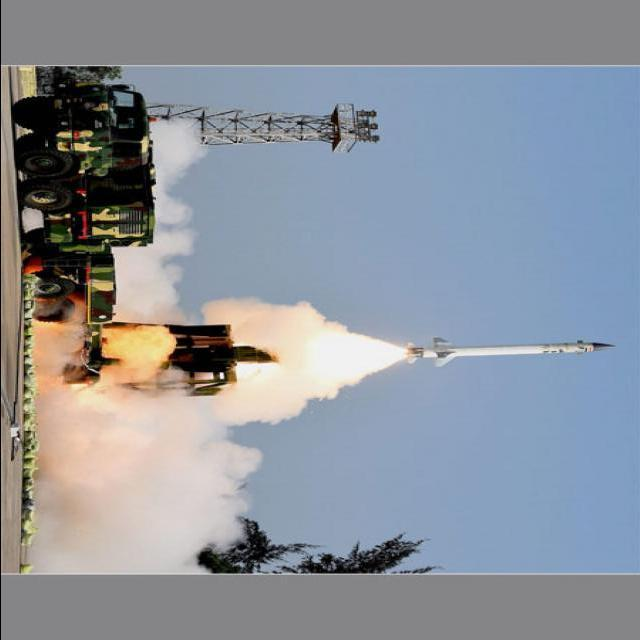Missile: (398, 337, 619, 362)
